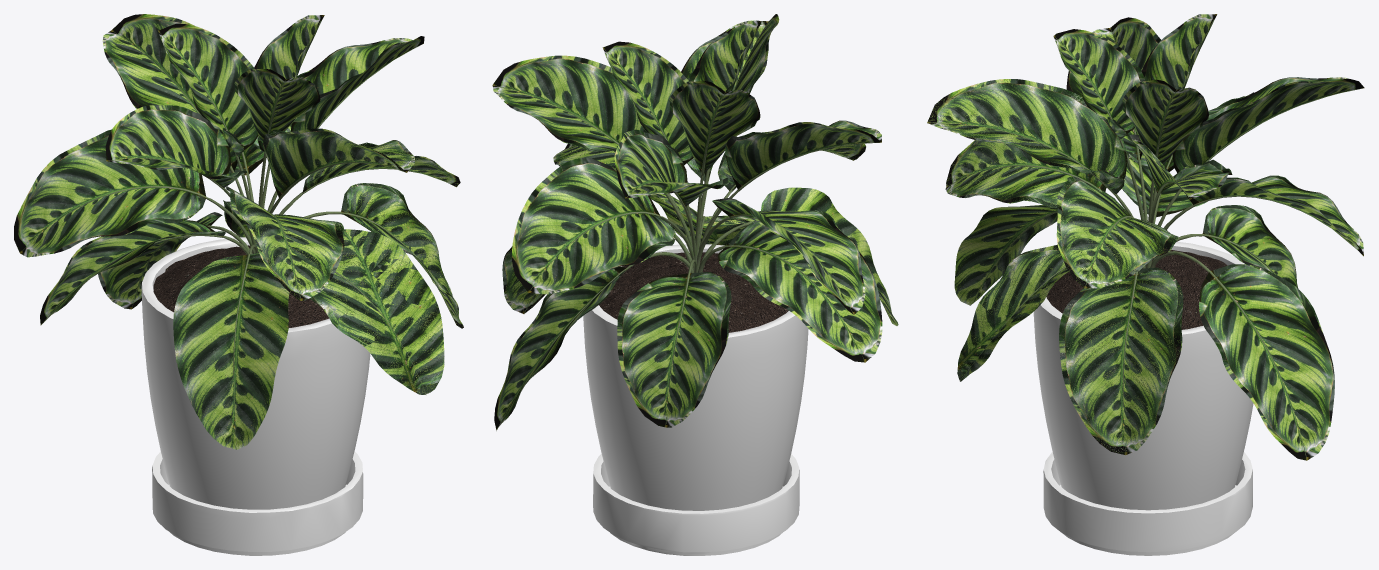
The picture shows the model from 3 angles, left to right: view 1: azimuth 30°, elevation 25°; view 2: azimuth 150°, elevation 25°; view 3: azimuth 270°, elevation 25°; orthographic projection. The views are drawn at different scales.
Visible parts, largest first — view 1: SketchUp_Instance_2, group_1, group_0, SketchUp_Instance_1; view 2: SketchUp_Instance_2, group_1, group_0, SketchUp_Instance_1; view 3: SketchUp_Instance_2, group_1, group_0, SketchUp_Instance_1.
Part boxes in pixels (left/top/right/bottom): SketchUp_Instance_2: left=14, top=14, right=463, bottom=449; group_1: left=141, top=237, right=370, bottom=509; group_0: left=152, top=451, right=363, bottom=555; SketchUp_Instance_1: left=153, top=245, right=328, bottom=327; SketchUp_Instance_2: left=492, top=14, right=898, bottom=430; group_1: left=583, top=244, right=808, bottom=510; group_0: left=593, top=454, right=799, bottom=555; SketchUp_Instance_1: left=599, top=252, right=788, bottom=332; SketchUp_Instance_2: left=927, top=14, right=1364, bottom=460; group_1: left=1033, top=241, right=1253, bottom=510; group_0: left=1043, top=452, right=1252, bottom=555; SketchUp_Instance_1: left=1046, top=249, right=1227, bottom=329.
Bounding box in the file's own units: 32.59 × 31.61 × 37.8.
Materials: 4 (3 with a texture image).
